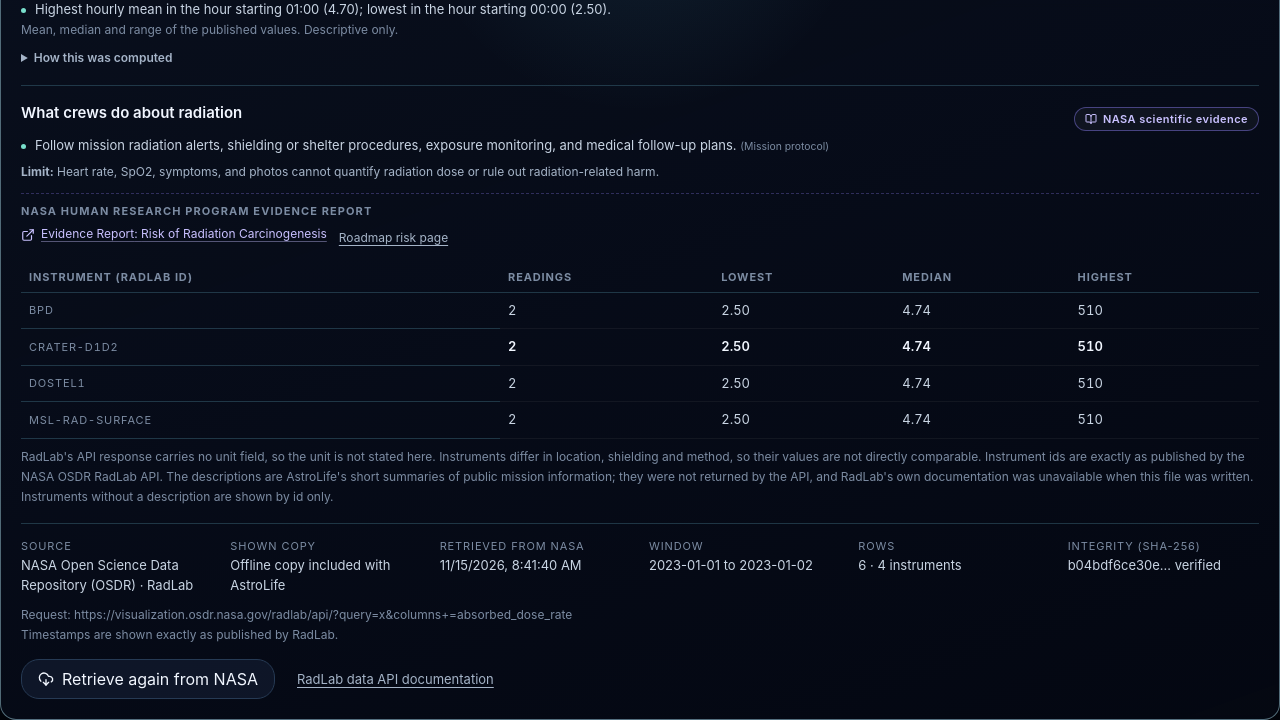
RadiationExplorer › retrieves again from NASA on request and labels the result as live
Later steps or results of the test are not shown.
(page scrolled)
Expected: the element named "Data provenance" is shown, [21,523,1259,596]
Click the button "Retrieve again from NASA" at (148, 680), box [21,660,275,700]
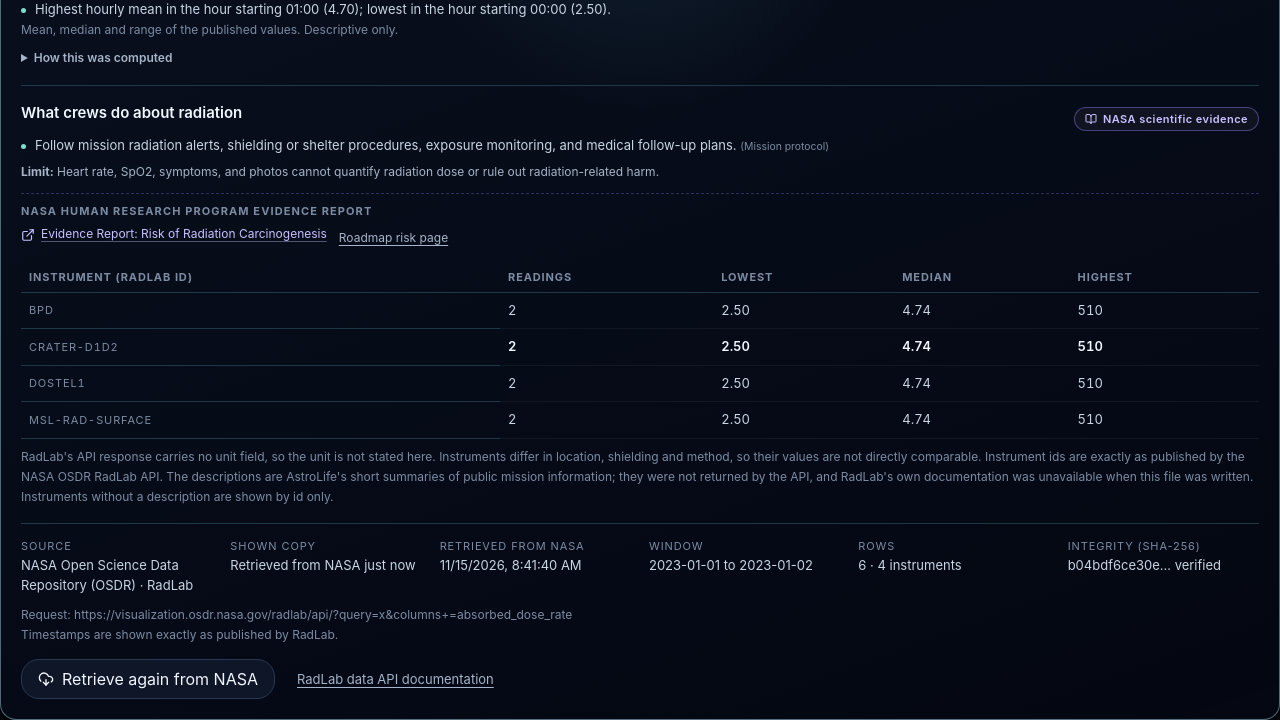
Now the element named "Data provenance" shows "Retrieved from NASA just now", box [230,558,416,574]
